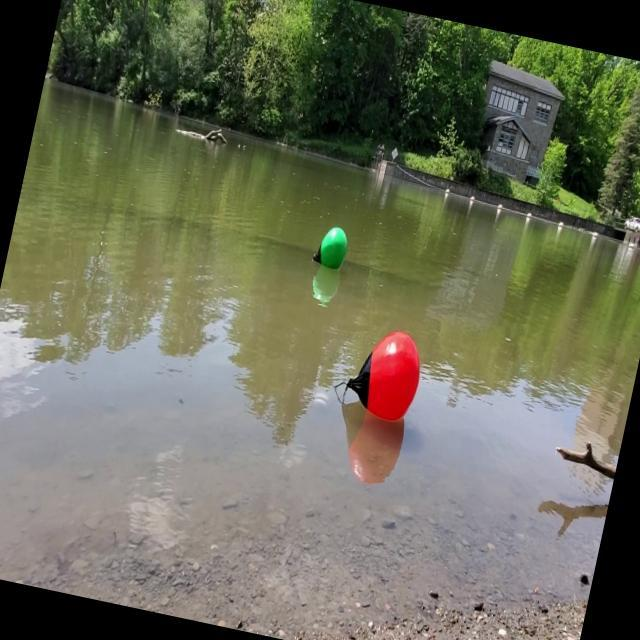buoy: (324, 316, 430, 428), (308, 219, 352, 272)
